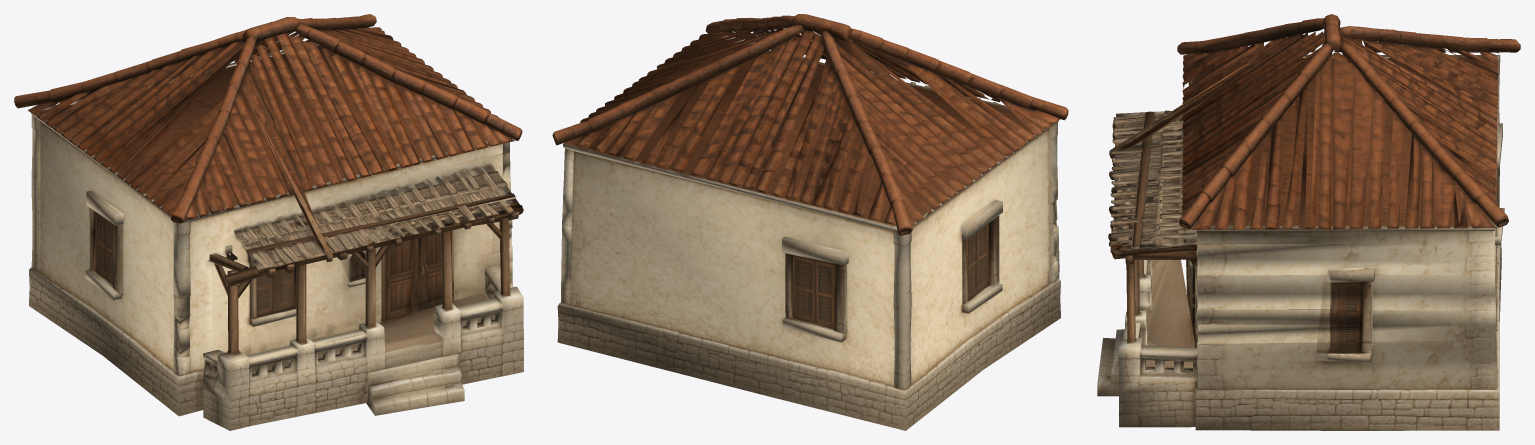
The model's file is generated-1948-01-netanya-tiled-house-original.glb.
The picture shows the model from 3 angles, left to right: view 1: azimuth 30°, elevation 25°; view 2: azimuth 150°, elevation 25°; view 3: azimuth 270°, elevation 25°; orthographic projection. The views are drawn at different scales.
Parts seen in each view (by area): view 1: tripo_node_d98df5f0-c0fc-4705-9e65-351ea0863bae; view 2: tripo_node_d98df5f0-c0fc-4705-9e65-351ea0863bae; view 3: tripo_node_d98df5f0-c0fc-4705-9e65-351ea0863bae.
Boxes of the visible parts, box(x1,y1,x2,y2) form: tripo_node_d98df5f0-c0fc-4705-9e65-351ea0863bae: box(14, 14, 523, 430); tripo_node_d98df5f0-c0fc-4705-9e65-351ea0863bae: box(552, 14, 1068, 430); tripo_node_d98df5f0-c0fc-4705-9e65-351ea0863bae: box(1097, 14, 1520, 430).
Size of the model in its own units: 0.9995 by 0.8501 by 0.9839.
1 material, 1 textured.
